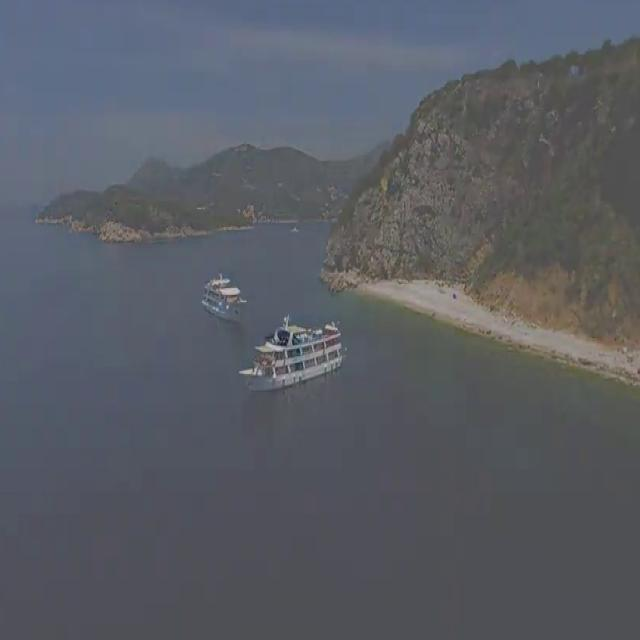passenger ship: (239, 318, 347, 401), (199, 268, 247, 321)
